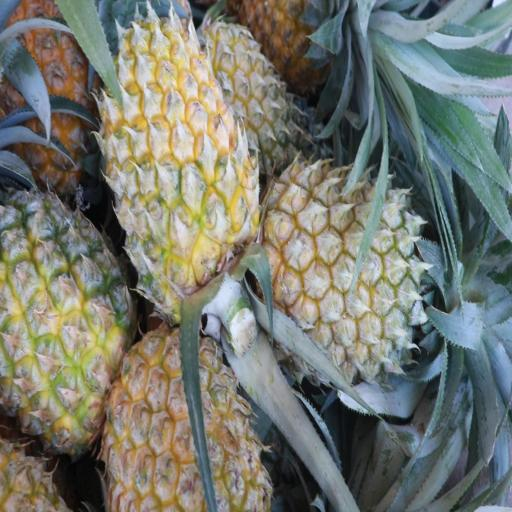------------------------------: (0, 185, 141, 455)
Pineapple - v8 v1: (92, 10, 261, 342), (252, 153, 446, 397), (236, 0, 384, 127)
